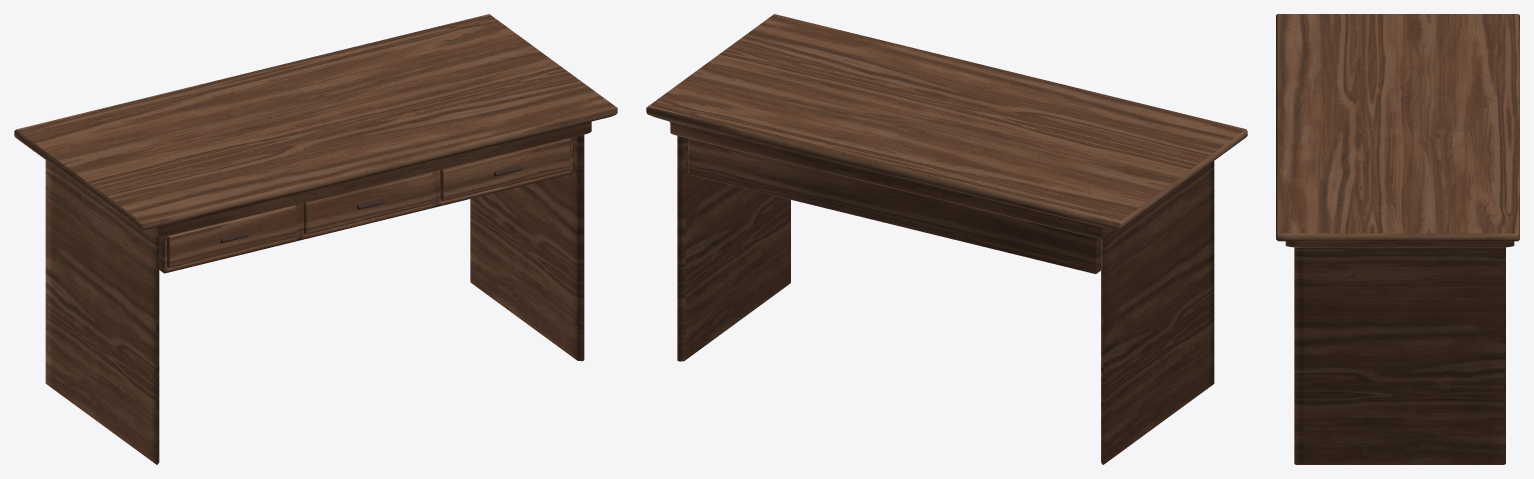
Rendered from study_table.glb.
The picture shows the model from 3 angles, left to right: view 1: azimuth 30°, elevation 25°; view 2: azimuth 150°, elevation 25°; view 3: azimuth 270°, elevation 25°; orthographic projection. The views are drawn at different scales.
Parts seen in each view (by area): view 1: StudyTable; view 2: StudyTable; view 3: StudyTable.
Boxes of the visible parts, x1,y1,x2,y2 form: StudyTable: [14, 14, 617, 464]; StudyTable: [646, 14, 1247, 464]; StudyTable: [1276, 14, 1519, 464].
Size of the model in its own units: 1.94 by 0.995 by 0.9058.
2 materials, 1 textured.
